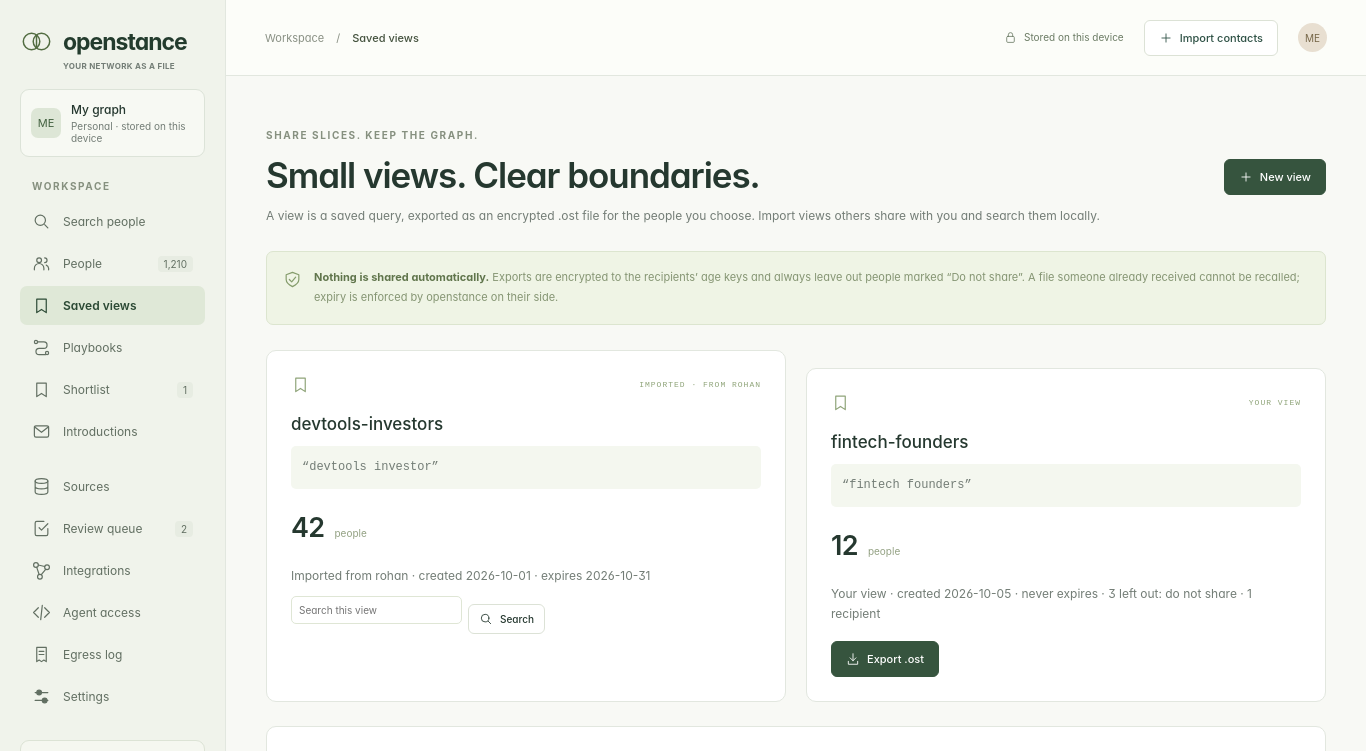
Test case: Saved views (P4-UI-05) › searches inside an imported view
Expected: the heading "devtools-investors" is shown, [291,414,443,434]
Type "partner" into the search field named "search devtools-investors".
click(376, 610); type("partner")  # box [291,596,462,624]
Then press Enter
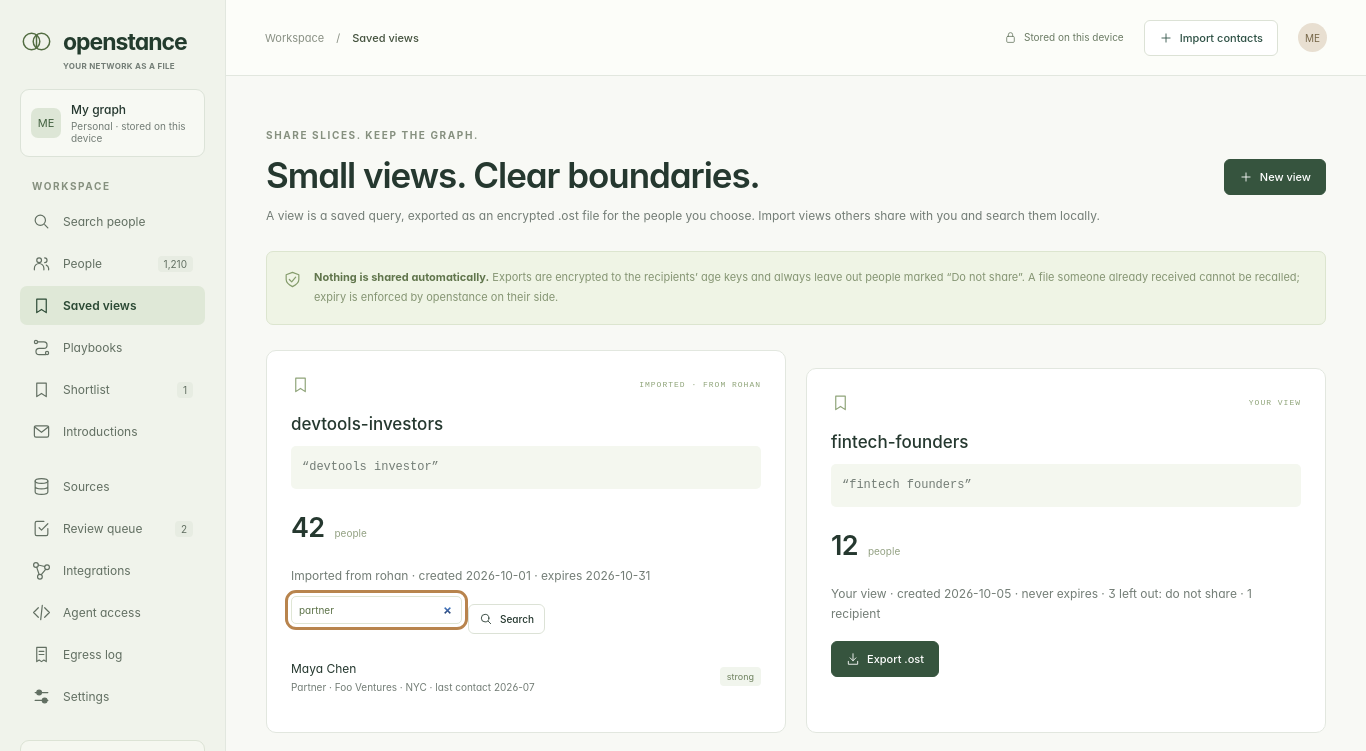
Result: the text "Maya Chen" is shown at [291,661,356,676]
Result: the text "strong" is shown at [720,667,761,686]
